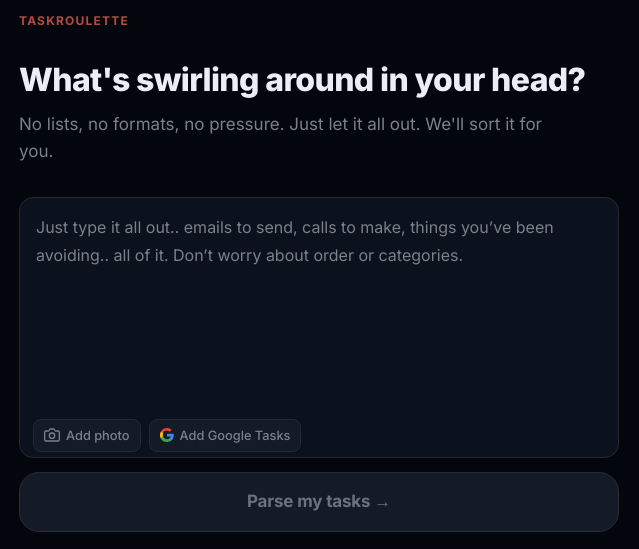
Scenario: DumpScreen › submit button enabled when textarea has text
In the text box: (319, 328) [19,197,619,458], type "call dentist"
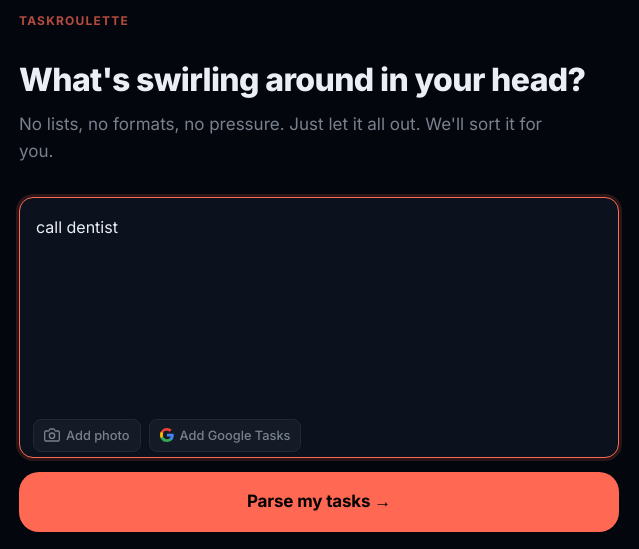
Check: the button "Parse my tasks →" is enabled, box [19,472,619,532]
